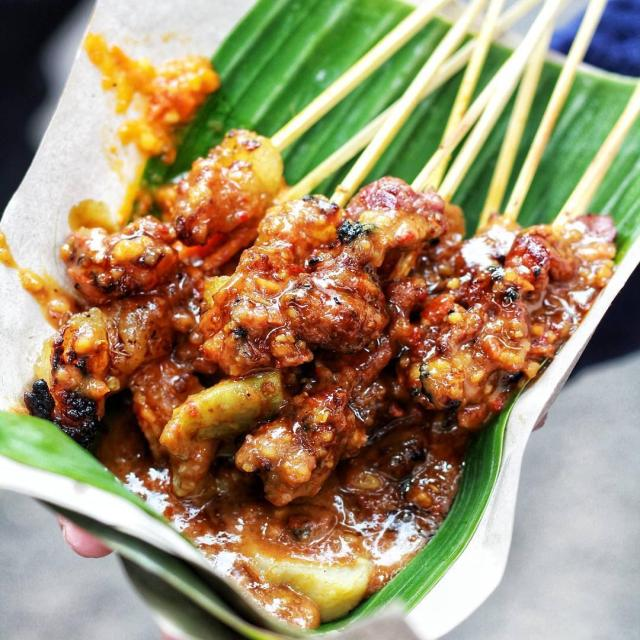Sate: (59, 62, 568, 548)
